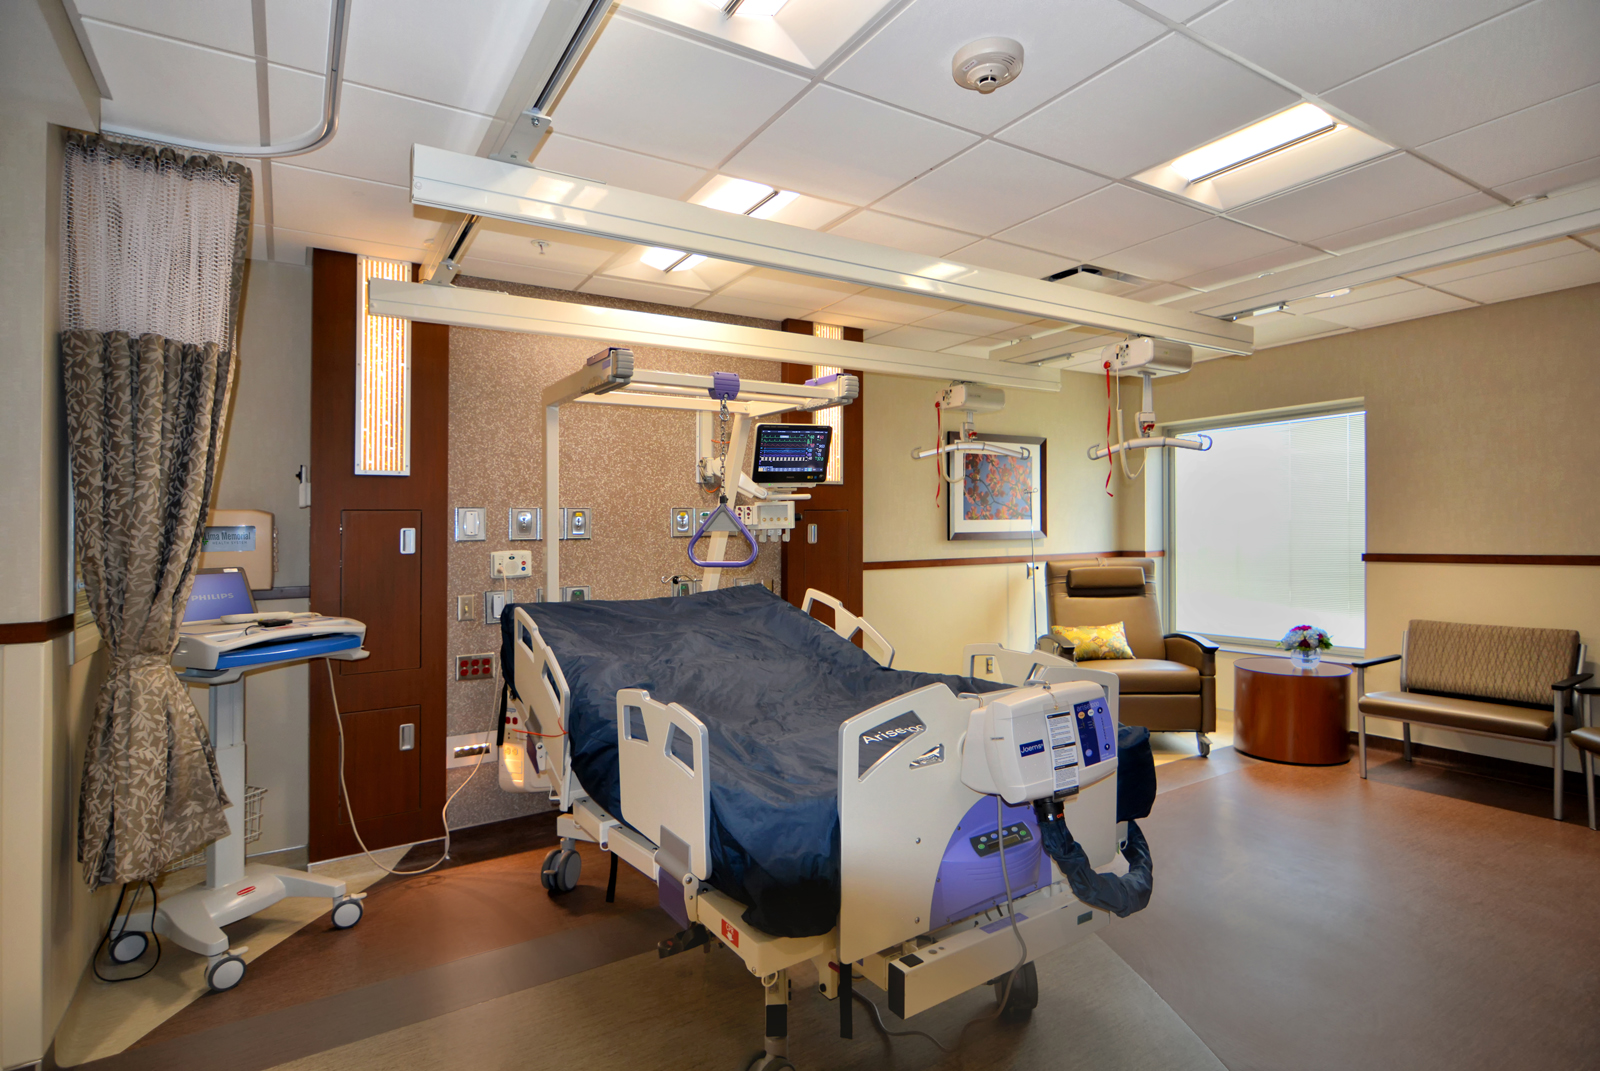bedrail: (615, 686, 713, 879), (514, 607, 572, 810), (798, 586, 895, 667), (960, 639, 1075, 693)
bedside_monitor: (750, 423, 834, 483)
computer: (172, 567, 258, 628)
curtain: (49, 118, 255, 893)
foot_board: (834, 666, 1120, 963)
hospital_bed: (499, 583, 1120, 1071)
iv_pole: (1020, 486, 1044, 648)
sequential_compression: (958, 683, 1117, 806)
sofa: (1351, 619, 1587, 821), (1044, 555, 1220, 759)
table: (1233, 653, 1351, 766)
